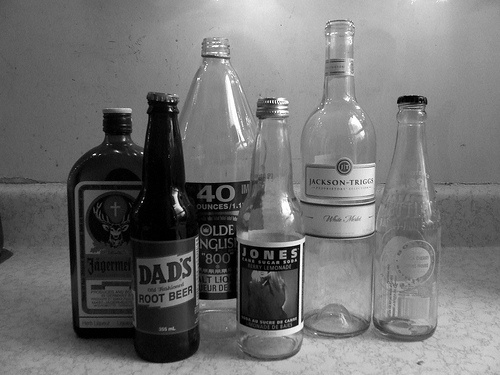emptybottle: (178, 38, 257, 338), (303, 20, 375, 337), (131, 94, 198, 363), (236, 96, 304, 361), (68, 108, 142, 339), (373, 94, 440, 341)
